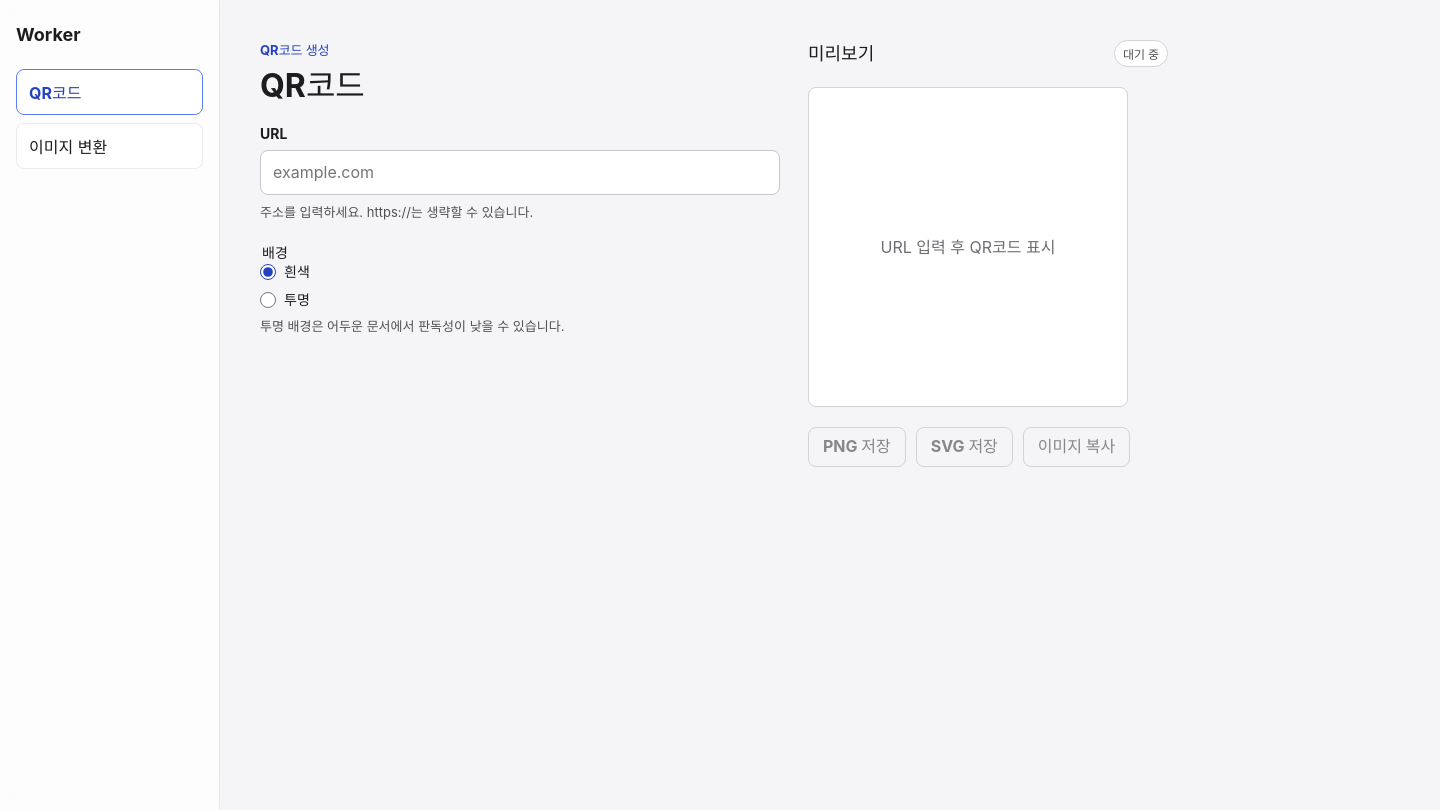
Test: App › switches to the image format converter tool
What coordinates should you click on to do the following:
click the button "이미지 변환"
I would click on:
 (110, 146)
Its box is [16,123,203,169].
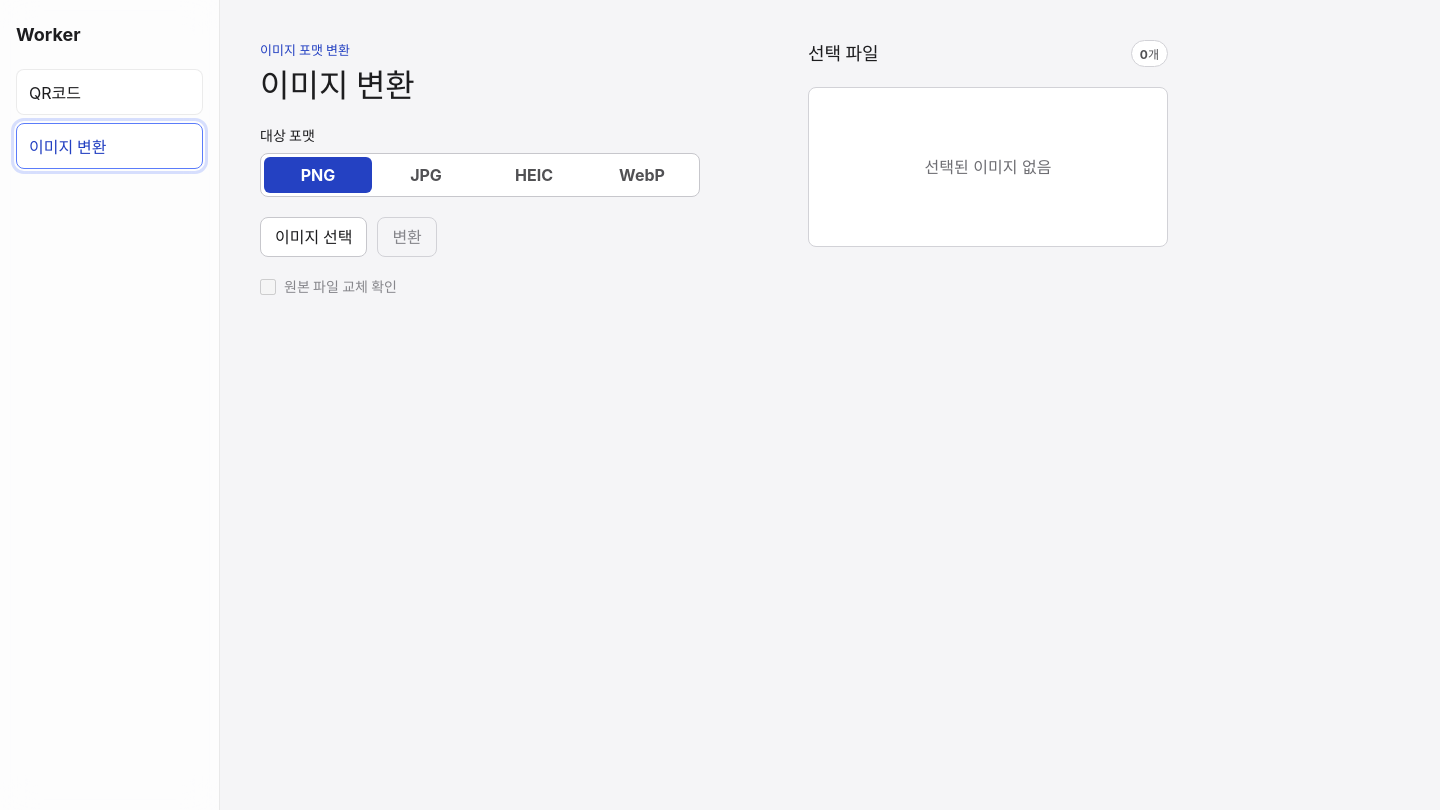
Now the heading "이미지 변환" is shown, box [260,66,415,105]
Now the button "이미지 선택" is enabled, box [260,217,367,257]
Now the checkbox labelled "원본 파일 교체 확인" is disabled, box [260,279,276,295]
